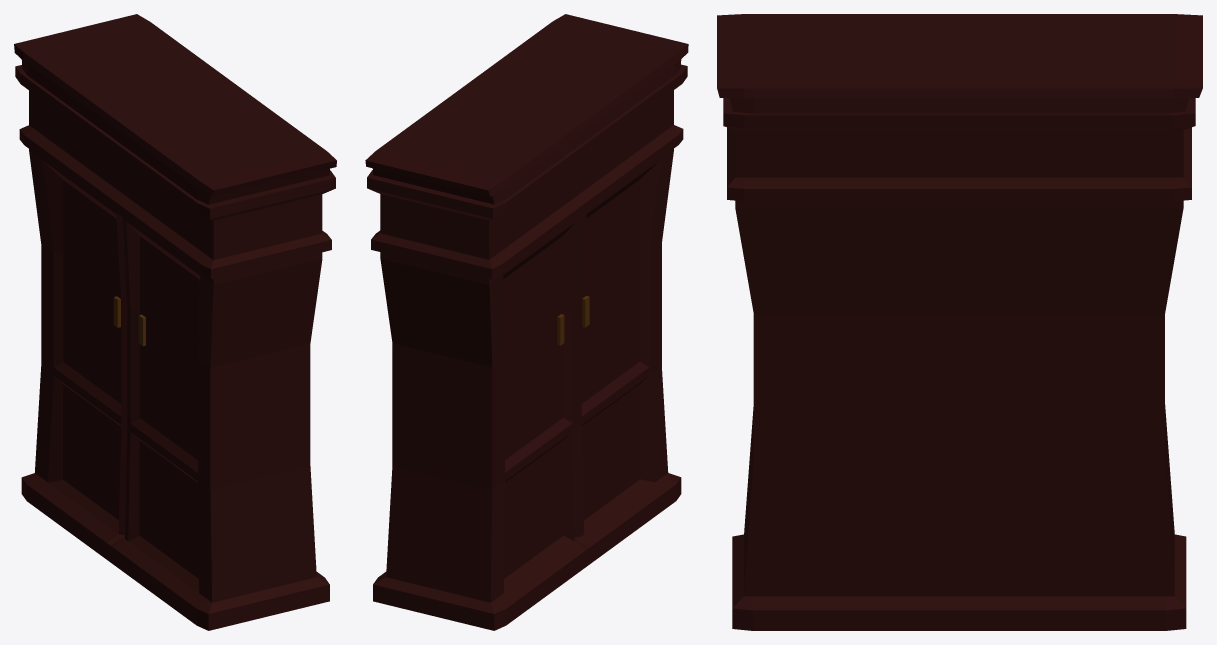
The model's file is Kleiderschrank1.fbx.
3 renders of one model, left to right at view 1: azimuth 30°, elevation 25°; view 2: azimuth 150°, elevation 25°; view 3: azimuth 270°, elevation 25°, orthographic. The views are drawn at different scales.
Visible parts, largest first — view 1: Schrank3.001; view 2: Schrank3.001; view 3: Schrank3.001.
Boxes of the visible parts, box(x1,y1,x2,y2) form: Schrank3.001: box(14, 14, 336, 630); Schrank3.001: box(365, 14, 688, 630); Schrank3.001: box(717, 14, 1202, 630).
Size of the model in its own units: 170 by 544 by 443.
